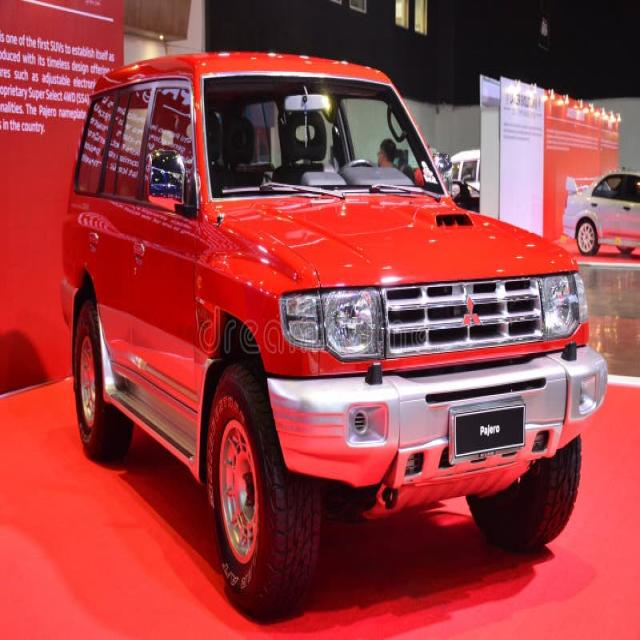light_vehicle: (59, 51, 606, 620)
